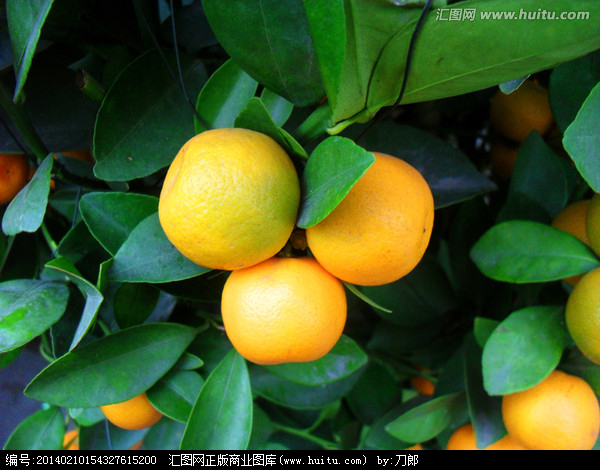orange: (157, 128, 304, 268), (303, 150, 435, 288), (221, 256, 346, 366), (501, 365, 600, 450), (95, 353, 182, 429), (568, 268, 600, 362), (443, 418, 525, 451)
